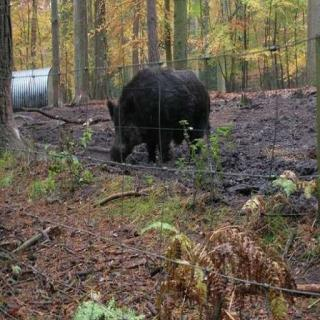Pig: (103, 59, 225, 177)
